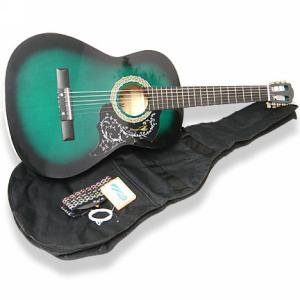guitar: (3, 31, 296, 181)
